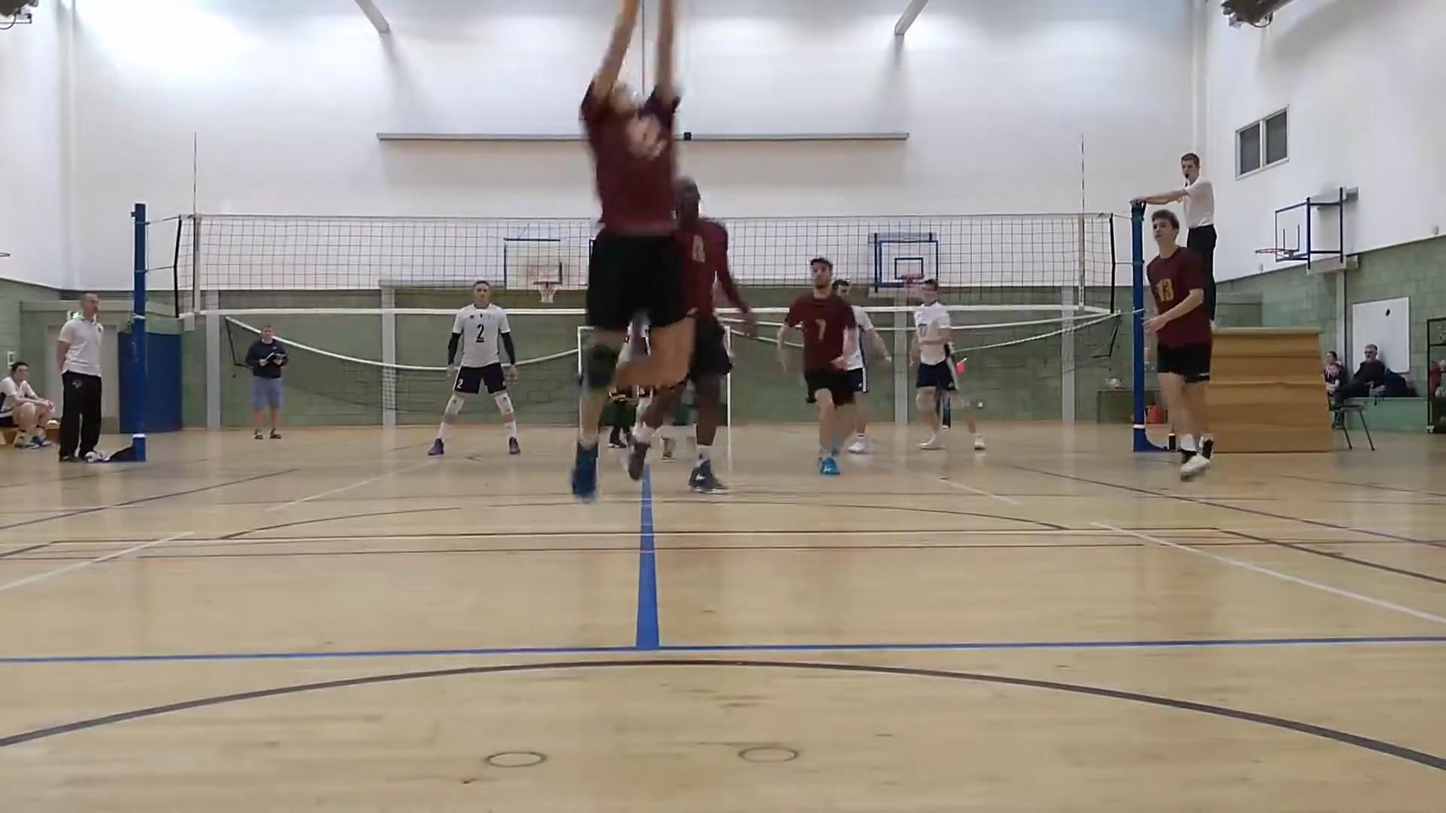difesa: (564, 0, 694, 500)
